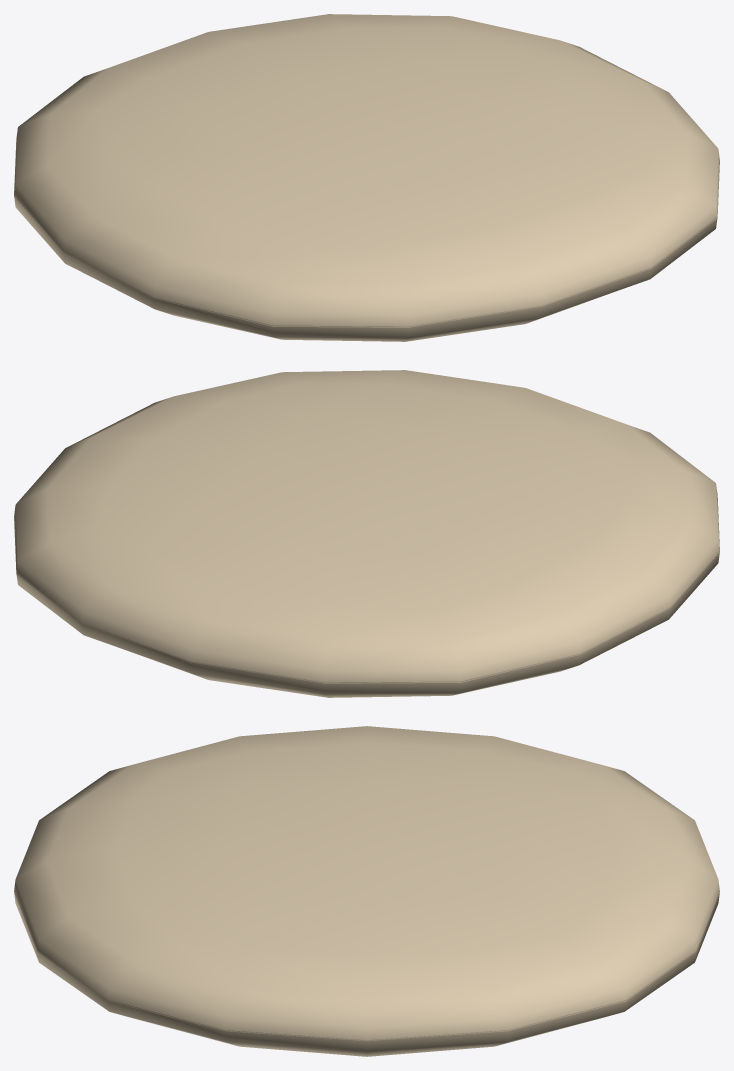
File: Pate.fbx
3 renders of one model, top to bottom at view 1: azimuth 30°, elevation 25°; view 2: azimuth 150°, elevation 25°; view 3: azimuth 270°, elevation 25°, orthographic.
Parts seen in each view (by area): view 1: Pate; view 2: Pate; view 3: Pate.
Boxes of the visible parts, x1,y1,x2,y2 form: Pate: (14,14,719,341); Pate: (14,370,719,697); Pate: (14,726,719,1056).
Bounding box in the file's own units: 108 × 17.71 × 108.
